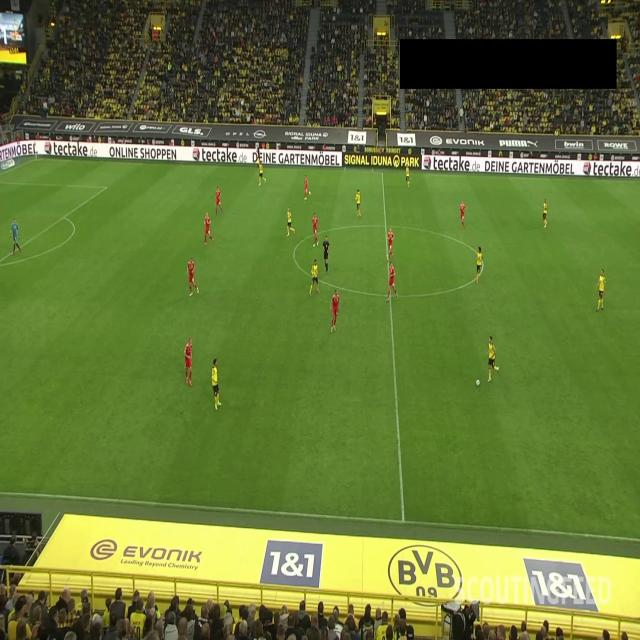ball: (476, 378, 480, 386)
team1: (186, 256, 200, 296), (330, 289, 340, 332), (387, 263, 398, 301), (185, 337, 193, 387), (203, 212, 214, 245), (312, 210, 320, 249), (386, 228, 394, 262), (214, 186, 223, 216), (458, 200, 467, 228), (304, 172, 312, 202)
team2: (488, 332, 500, 384), (212, 356, 221, 413), (596, 268, 606, 314), (309, 260, 320, 296), (476, 244, 484, 285), (286, 207, 295, 236), (258, 160, 266, 186), (542, 198, 548, 229), (356, 188, 362, 218), (406, 162, 412, 189)
